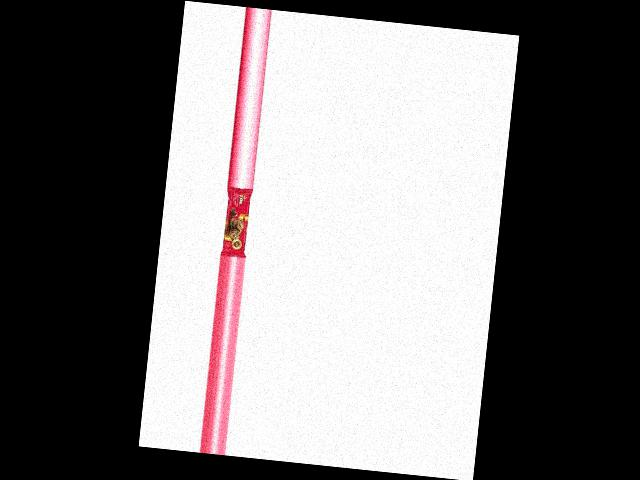chocolate: (218, 185, 252, 256)
